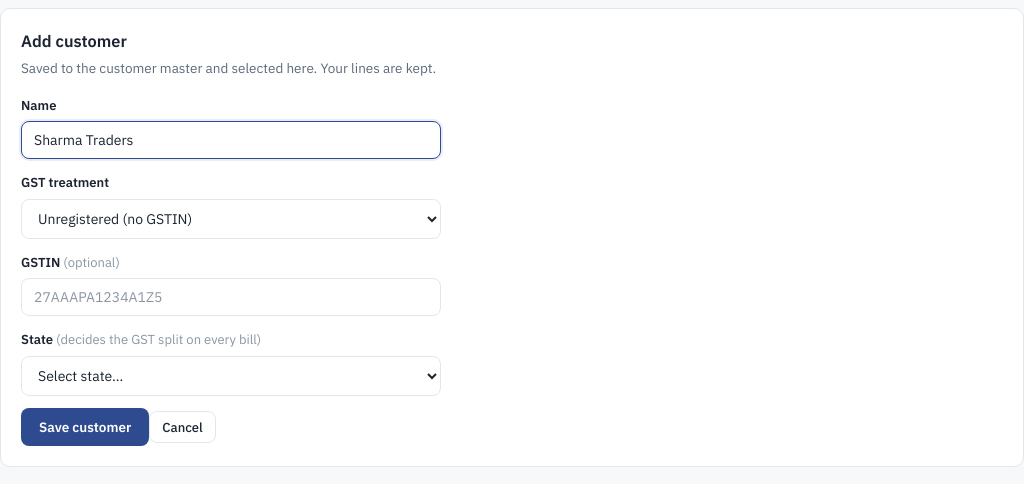
Test: <QuickAddCustomer> › offers to promote a company that is on file as a supplier
Select "09 — Uttar Pradesh" in the dropdown labelled "State (decides the GST split on every bill)" at (231, 376), box [21,356,441,396]
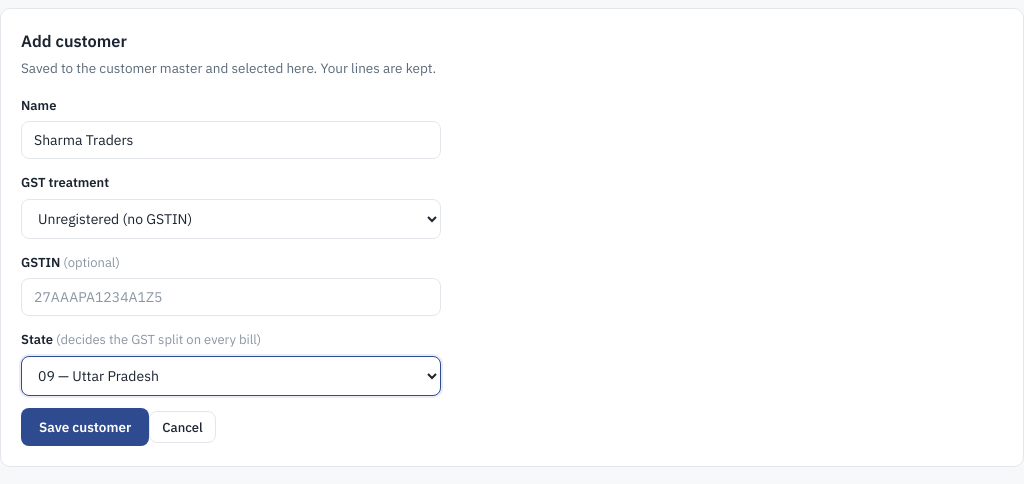
Click the button "Save customer" at (85, 427), box [21,408,149,446]
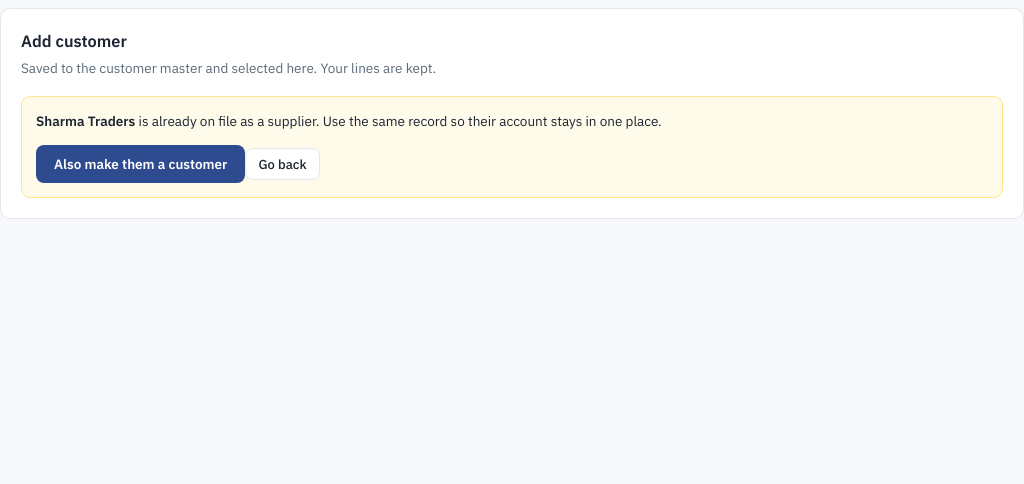
expect the text "already on file as a supplier" is shown: met, box [138,112,316,130]
expect the button "Also make them a customer" is shown: met, box [36,145,245,183]
